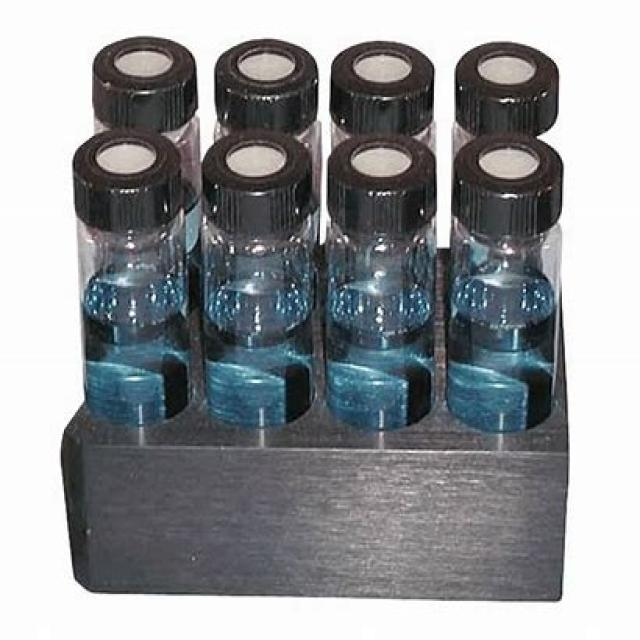vial: (70, 120, 188, 206), (321, 130, 431, 210), (205, 130, 302, 214), (458, 136, 563, 207), (88, 33, 196, 99), (334, 41, 438, 104), (454, 49, 556, 111), (221, 40, 312, 100)
